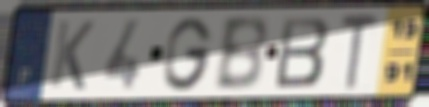4: (100, 17, 143, 92)
B: (211, 13, 270, 93), (272, 14, 332, 90)
G: (161, 14, 216, 93)
K: (47, 18, 97, 93)
T: (338, 11, 381, 92)
